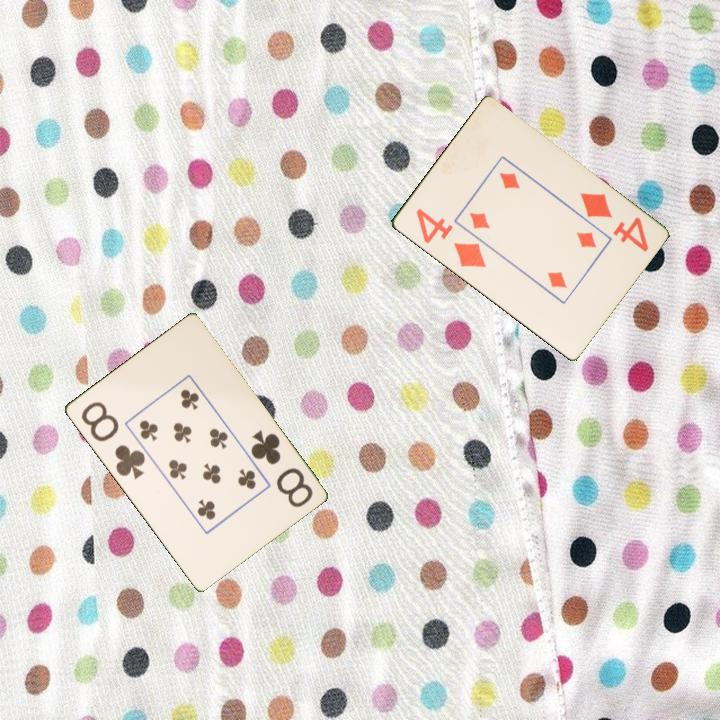4d: (412, 205, 489, 271), (576, 189, 651, 255)
8c: (77, 398, 148, 482), (247, 426, 316, 510)
